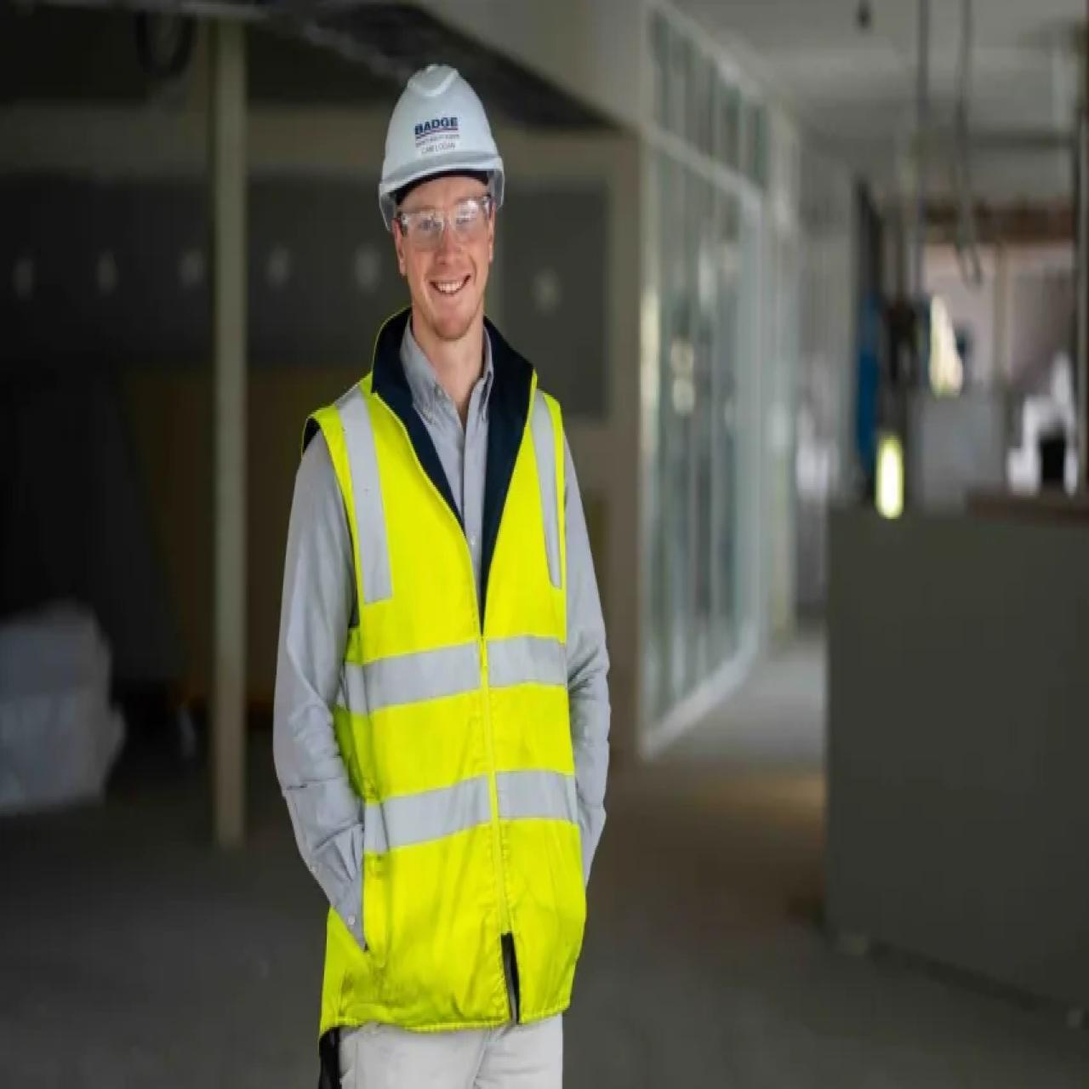Person: (259, 43, 628, 1089)
Safety_Vest: (305, 353, 598, 1039)
